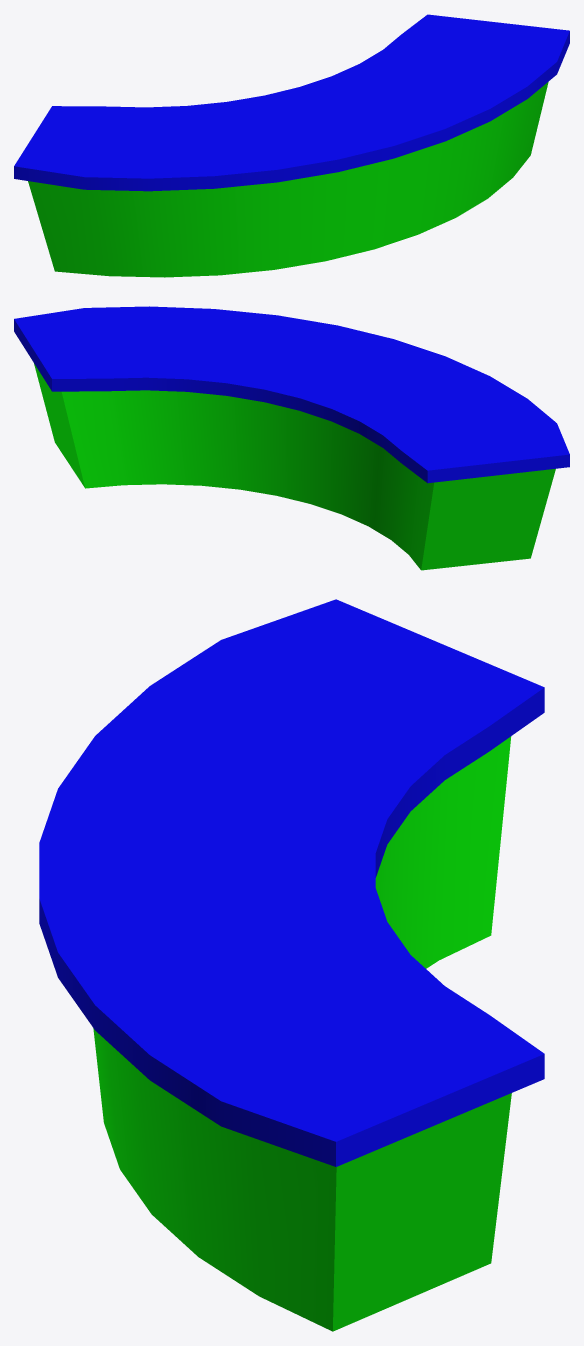
Rendered from reporterDesk.fbx.
3 renders of one model, top to bottom at view 1: azimuth 30°, elevation 25°; view 2: azimuth 150°, elevation 25°; view 3: azimuth 270°, elevation 25°, orthographic. The views are drawn at different scales.
Visible parts, largest first — view 1: desk; view 2: desk; view 3: desk.
Boxes of the visible parts, x1,y1,x2,y2 form: desk: (14,14,569,277); desk: (14,306,569,570); desk: (39,599,544,1331).
Size of the model in its own units: 520 by 102 by 205.
